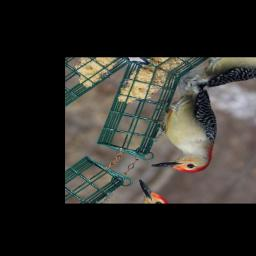Woodpecker: (120, 79, 256, 184)
